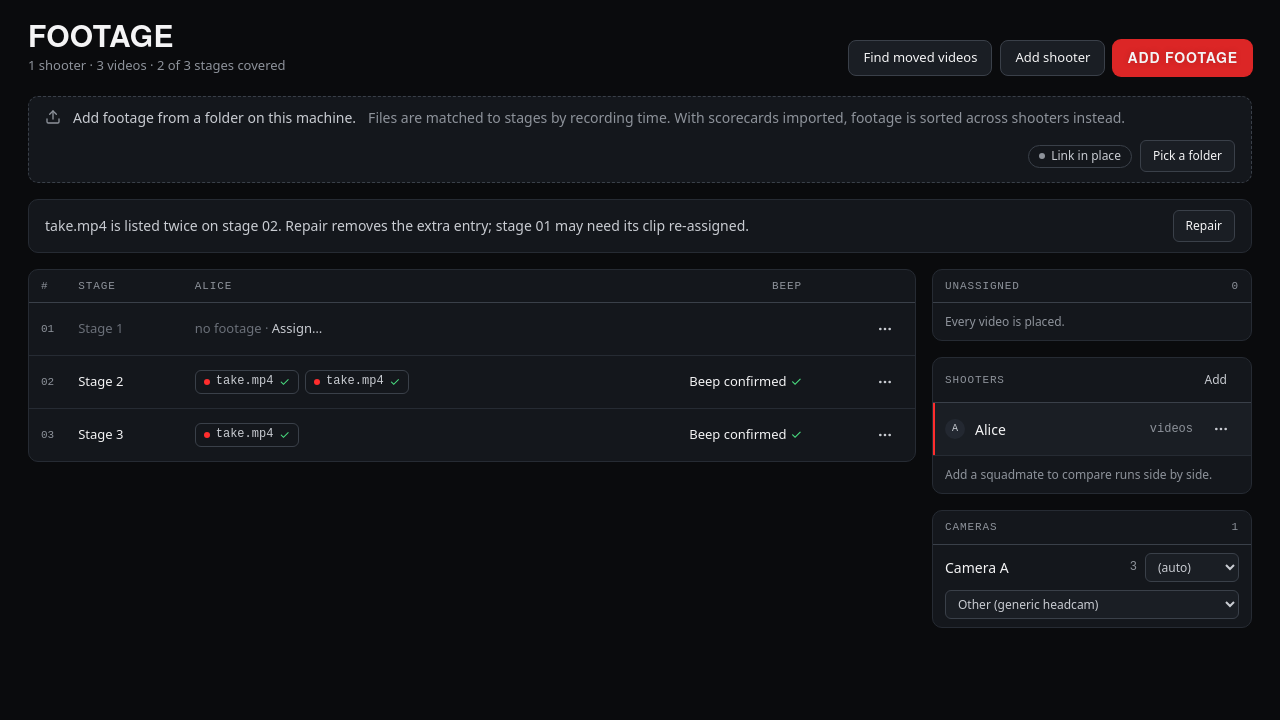
Test: Footage repair of a damaged single take › names the damaged take and repairs it
Click the button "Repair": (1204, 226) [1173,210,1235,242]
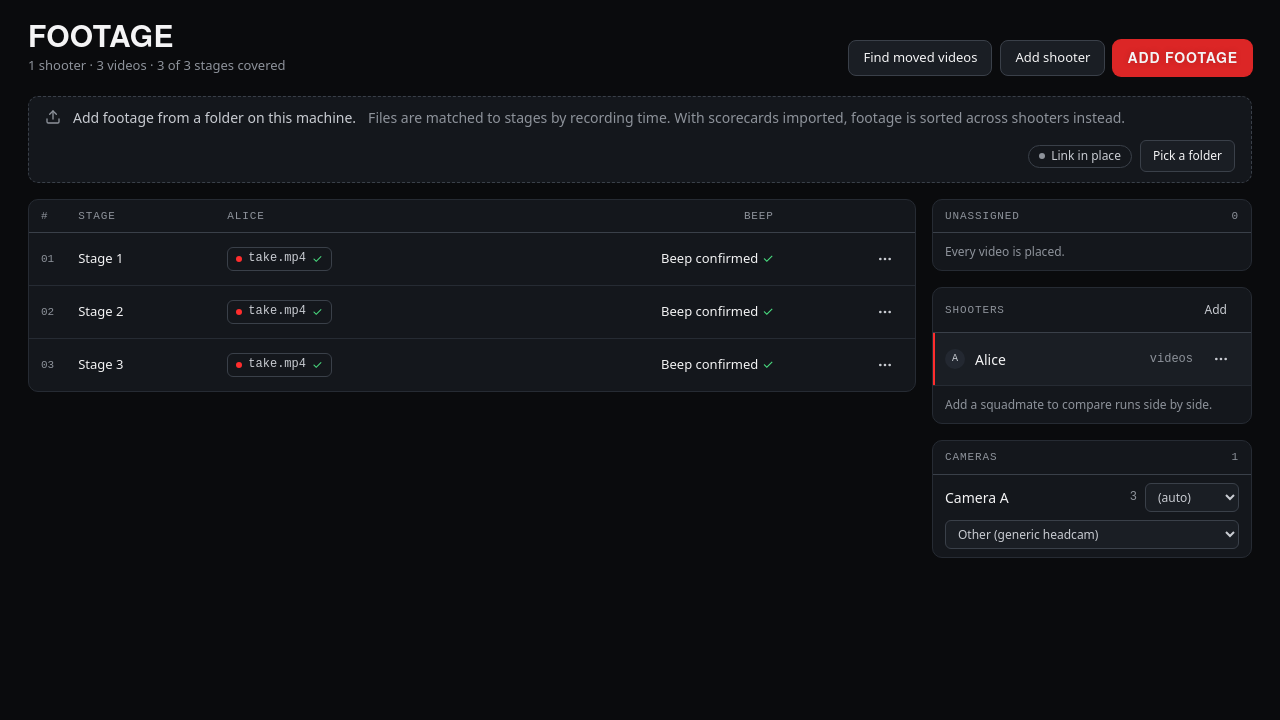
Expected: the text "is listed twice" is gone
